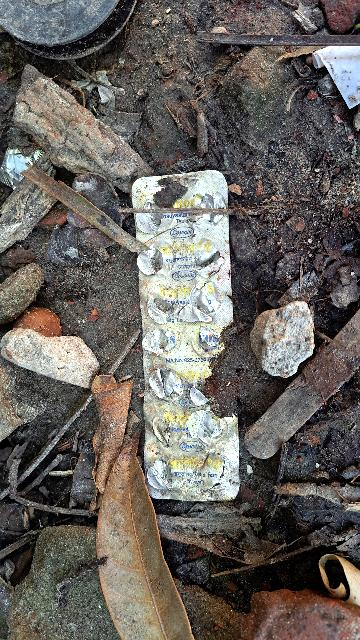medicine: (126, 168, 248, 507)
